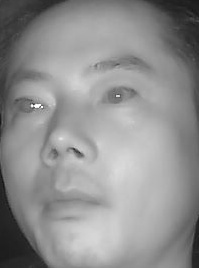eye: (97, 85, 144, 109), (11, 94, 48, 117)
mouth: (34, 178, 105, 223)
